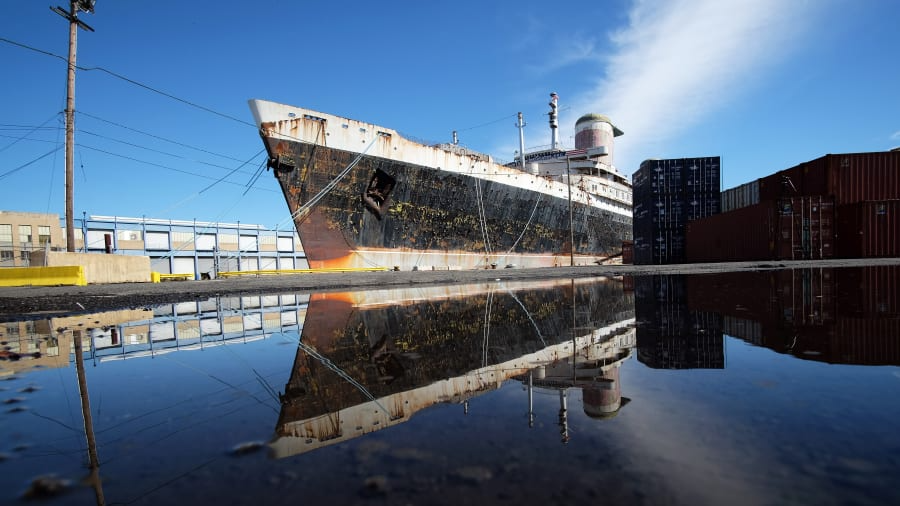rust: (289, 204, 355, 261), (257, 115, 334, 141)
